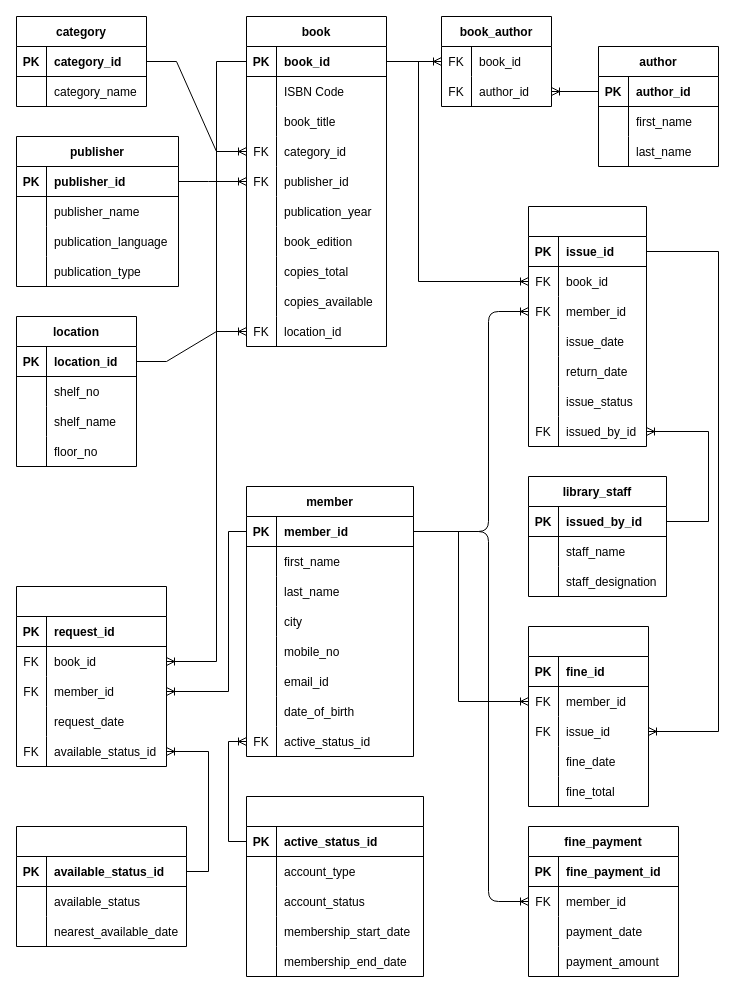
The diagram is 735 pixels wide and 993 high, and some of its shapes have lost their labels. Each missing label, with the box of its shape:
book_issue: (528, 206, 646, 446)
book_request: (16, 586, 166, 766)
book_request_status: (16, 826, 186, 946)
fine_due: (528, 626, 648, 806)
member_status: (246, 796, 424, 976)
